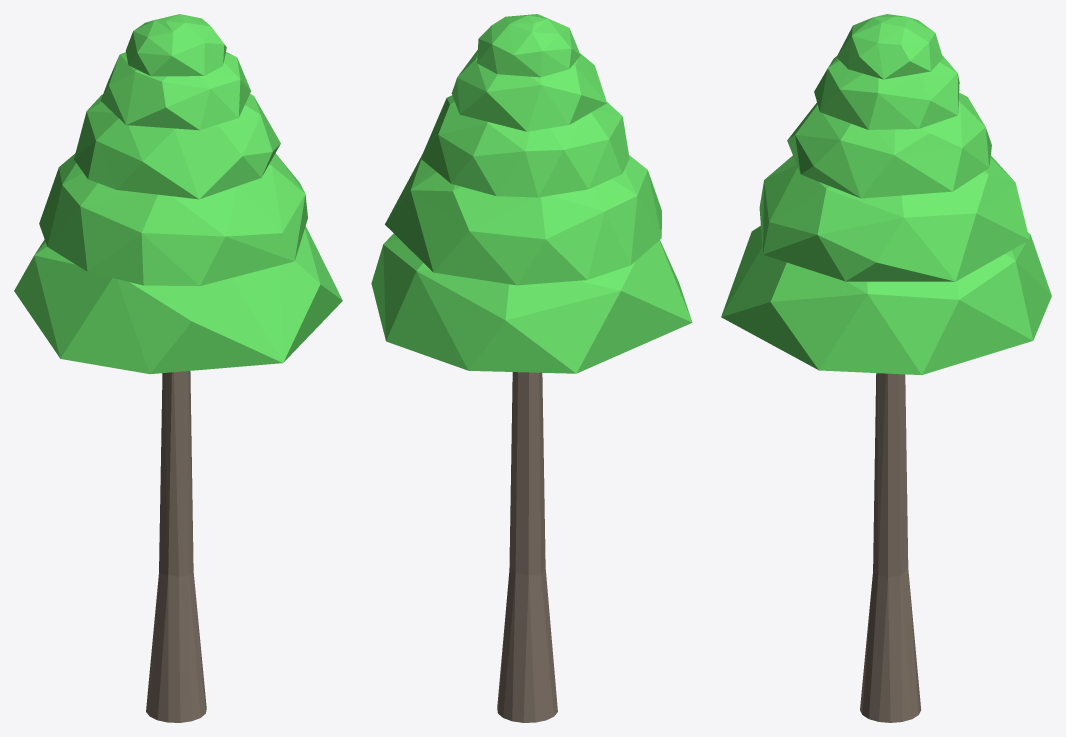
Rendered from tree3.gltf.
The picture shows the model from 3 angles, left to right: view 1: azimuth 30°, elevation 25°; view 2: azimuth 150°, elevation 25°; view 3: azimuth 270°, elevation 25°; orthographic projection.
Parts seen in each view (by area): view 1: Sphere.011_wood_0; view 2: Sphere.011_wood_0; view 3: Sphere.011_wood_0.
Boxes of the visible parts, x1,y1,x2,y2 form: Sphere.011_wood_0: (14, 14, 342, 722); Sphere.011_wood_0: (371, 14, 692, 722); Sphere.011_wood_0: (721, 14, 1051, 722).
Size of the model in its own units: 0.7847 by 1.84 by 0.8014.
